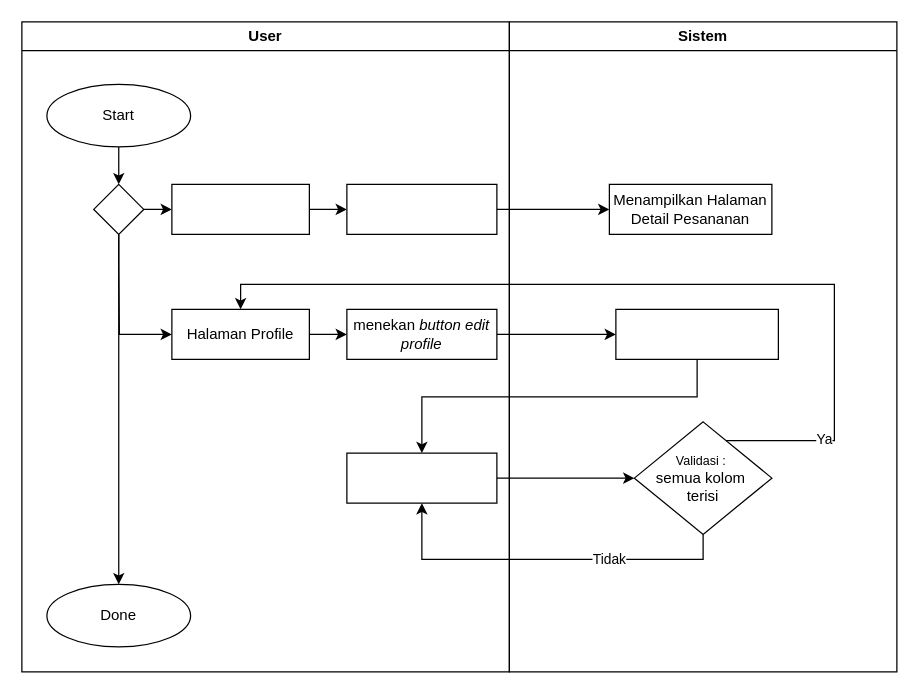
This 919x694 diagram has some shape labels left out. The box of each missing label's shape, as (x1, y1, x2, y2) in pixels:
Aktor menekan pada salah satu riwayat pesanan: (346, 183, 497, 234)
Halaman Riwayat: (171, 183, 309, 234)
Menampilkan Edit Profile: (615, 308, 778, 359)
Mengisi data dan menekan button simpan: (346, 452, 497, 503)
